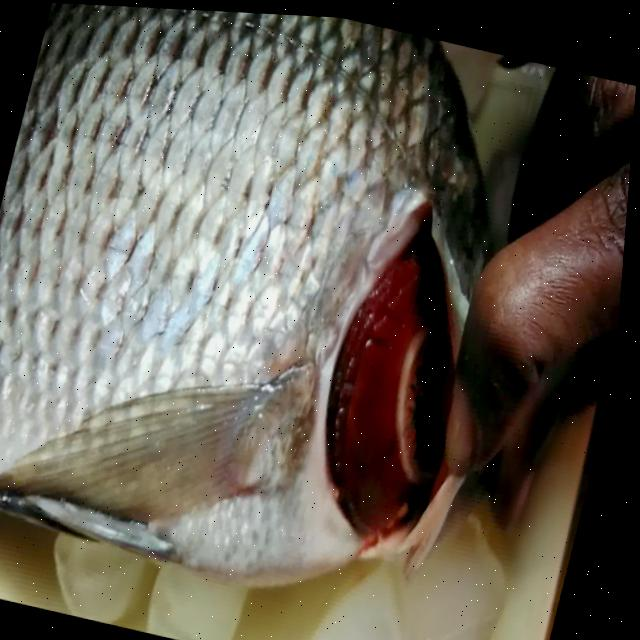Fresh: (274, 171, 501, 581)
